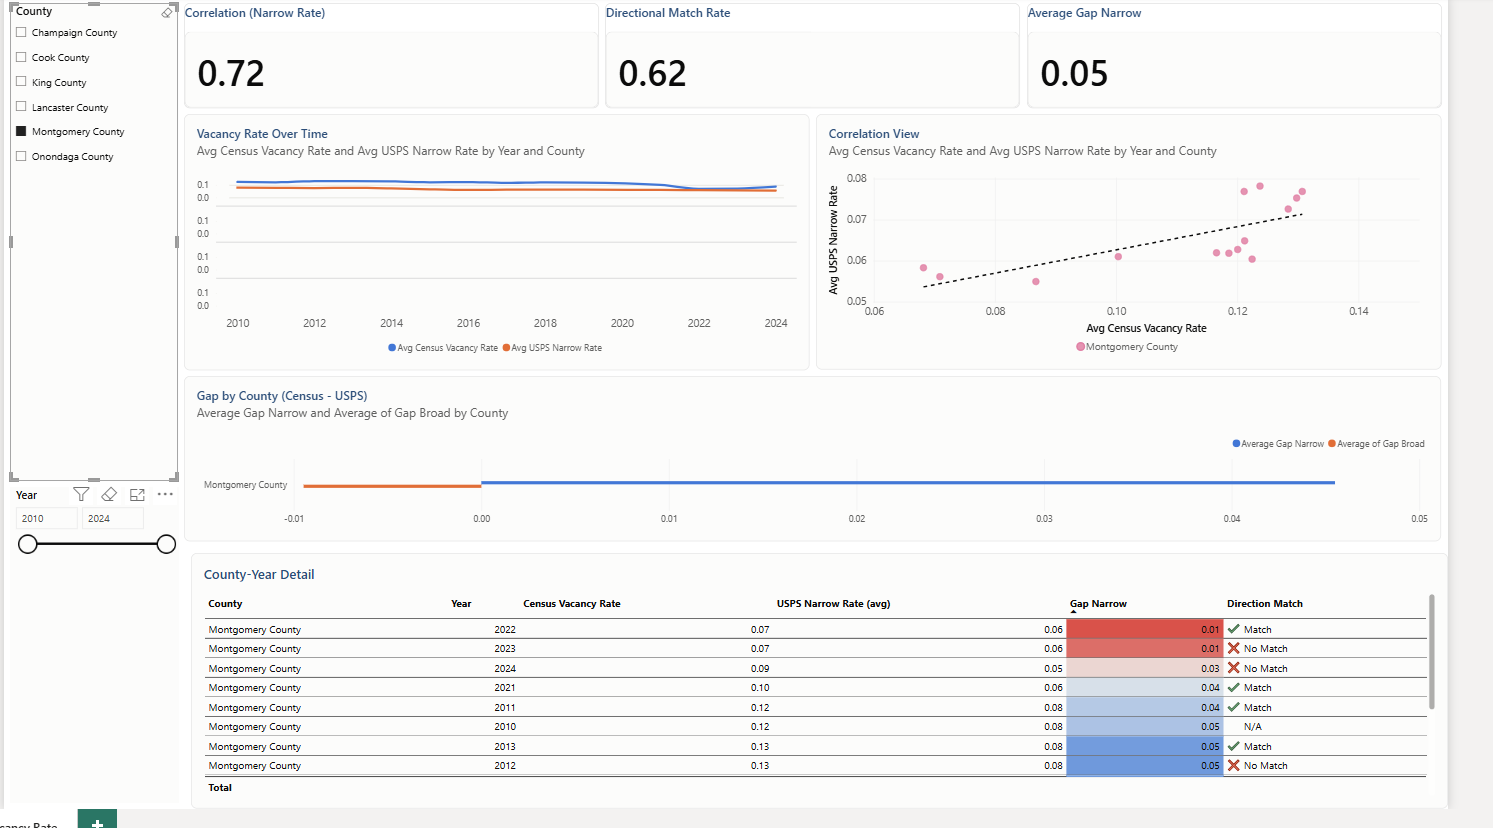

The dashboard page shown, as its layout file describes it:
{"tool":"powerbi","page":{"name":"Vacancy Rate","canvas":[1920,1080],"ordinal":0},"visuals":[{"type":"slicer","fields":{"Values":["Comparison.County"]},"box":[8,8,224,636],"z":0},{"type":"slicer","fields":{"Values":["Comparison.Year"]},"box":[8,652,224,420],"z":1},{"type":"cardVisual","title":"Correlation (Narrow Rate)","fields":{"Data":["Comparison.Correlation (Narrow)"]},"box":[240,8,552,140],"z":2},{"type":"cardVisual","title":"Directional Match Rate","fields":{"Data":["Comparison.Directional Match Rate"]},"box":[800,8,552,140],"z":3},{"type":"cardVisual","title":"Average Gap Narrow","fields":{"Data":["Comparison.Average Gap Narrow"]},"box":[1360,8,552,140],"z":4},{"type":"lineChart","title":"Vacancy Rate Over Time","fields":{"Category":["Comparison.Year"],"Rows":["Comparison.County"],"Y":["Comparison.Avg Census Vacancy Rate","Comparison.Avg USPS Narrow Rate"]},"box":[240,156,832,340.6],"z":5},{"type":"scatterChart","title":"Correlation View","fields":{"Category":["Comparison.Year"],"Series":["Comparison.County"],"X":["Comparison.Avg Census Vacancy Rate"],"Y":["Comparison.Avg USPS Narrow Rate"]},"box":[1080,156,832,340],"z":6},{"type":"clusteredBarChart","title":"Gap by County (Census - USPS)","fields":{"Category":["Comparison.County"],"Y":["Comparison.Average Gap Narrow","Avg(Comparison.Gap Broad)"]},"box":[240,504,1672,220],"z":7},{"type":"tableEx","title":"County-Year Detail","fields":{"Values":["Comparison.County","Comparison.Year","Comparison.Census Vacancy Rate","Comparison.USPS Narrow Rate (avg)","Comparison.Gap Narrow","Comparison.Direction Match"]},"box":[248.1,740,1672,340],"z":8}]}

Visuals, with their boxes on the page's 1920x1080 design canvas (x1, y1, x2, y2). These are canvas units, not pixel positions in the 1493x828 screenshot, which may show the page scaled, cropped or inside an application window:
slicer - Comparison.County: crop(8, 8, 232, 644)
slicer - Comparison.Year: crop(8, 652, 232, 1072)
"Correlation (Narrow Rate)" cardVisual: crop(240, 8, 792, 148)
"Directional Match Rate" cardVisual: crop(800, 8, 1352, 148)
"Average Gap Narrow" cardVisual: crop(1360, 8, 1912, 148)
"Vacancy Rate Over Time" lineChart: crop(240, 156, 1072, 497)
"Correlation View" scatterChart: crop(1080, 156, 1912, 496)
"Gap by County (Census - USPS)" clusteredBarChart: crop(240, 504, 1912, 724)
"County-Year Detail" tableEx: crop(248, 740, 1920, 1080)
